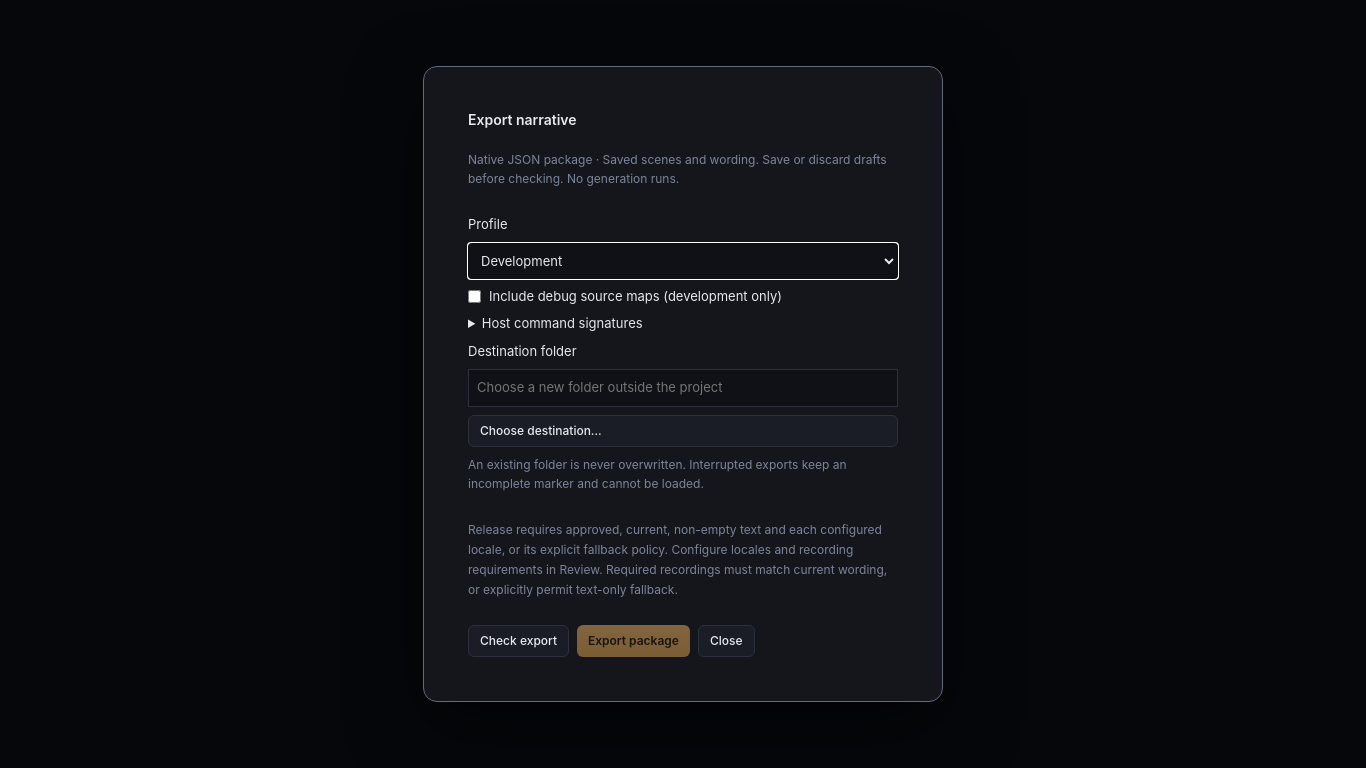
it: Narrative export › shows release blockers and invalidates validation on option changes
Click the button "Check export" at (518, 641), box [468,625,569,657]
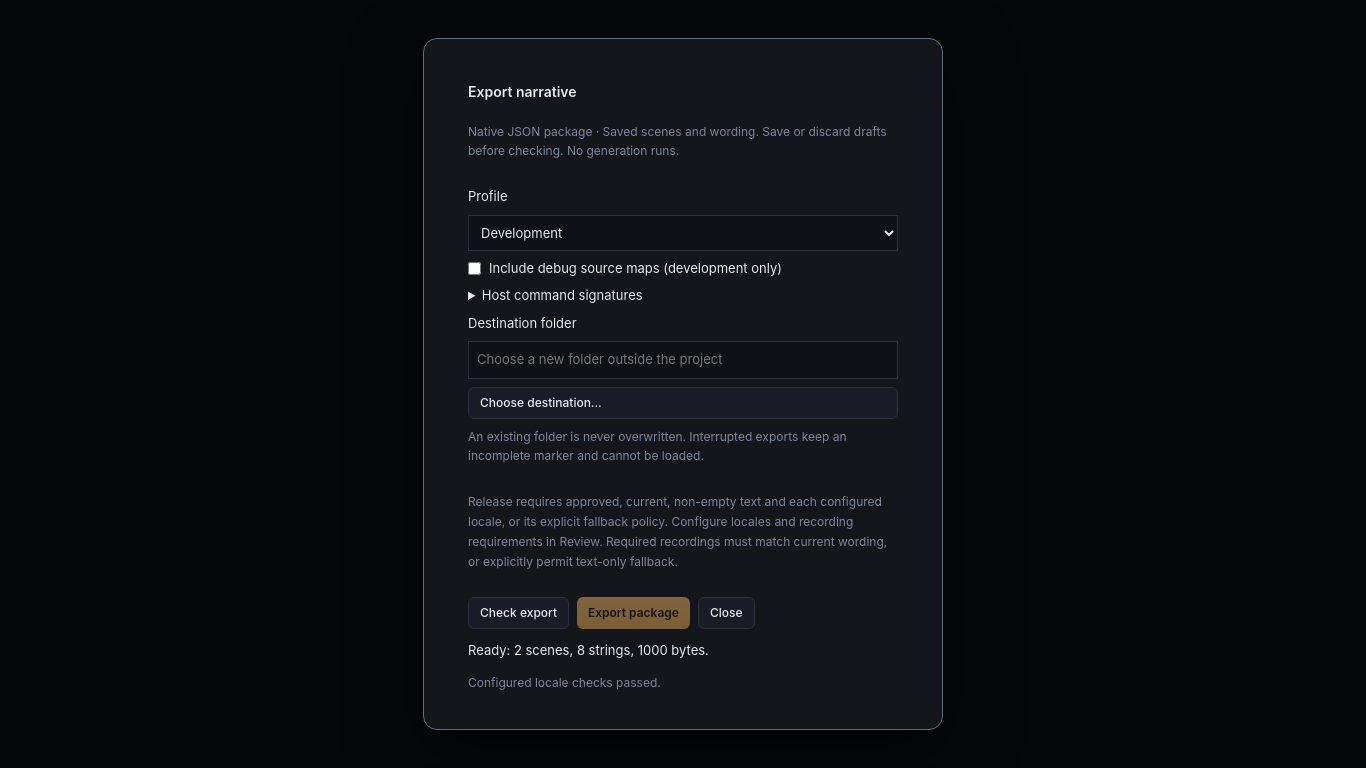
Expected: the text "Ready: 2 scenes, 8 strings, 1000 bytes." is shown, [468,642,709,658]
Select "Release" in the dropdown labelled "Profile" at (683, 233), box [468,215,898,251]
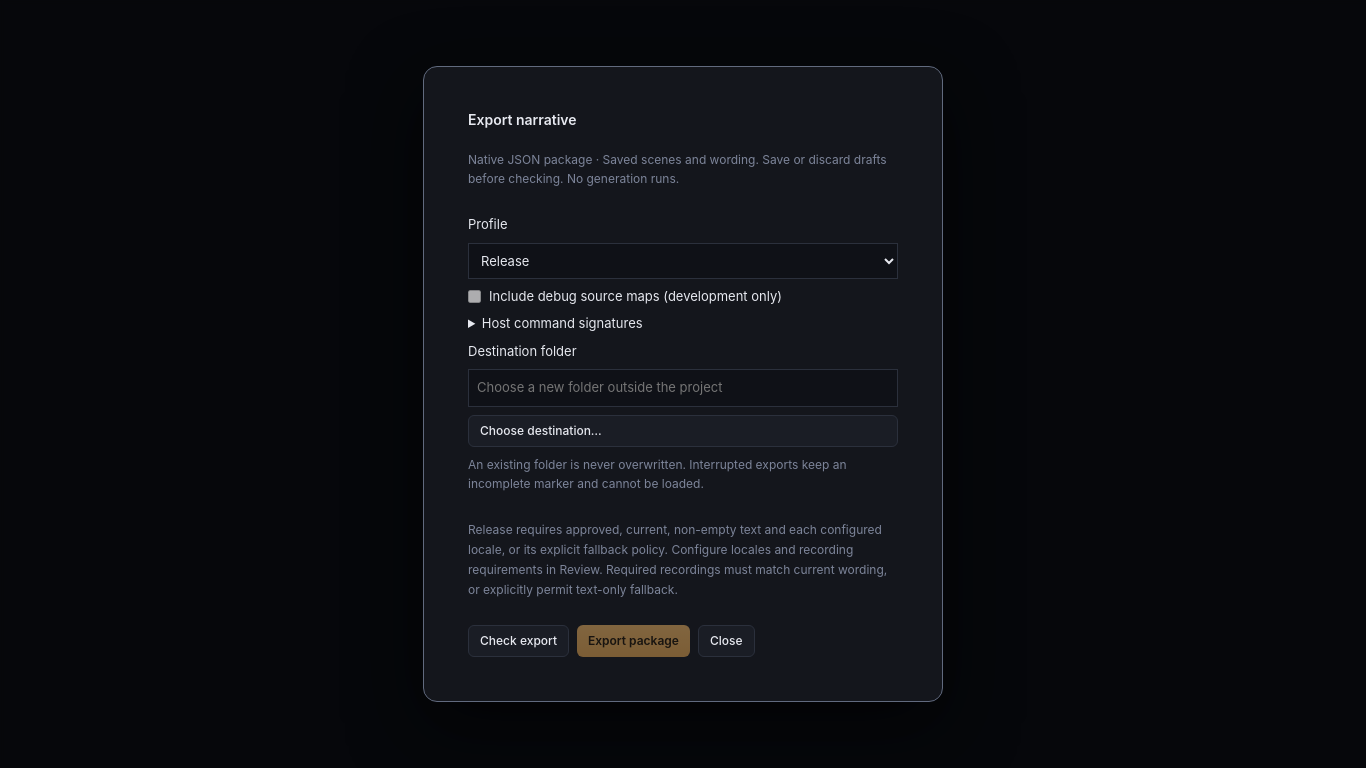
Expected: the text "Ready:" is gone
Expected: the checkbox is disabled, [468,290,481,303]
Click the button "Check export" at (518, 641), box [468,625,569,657]
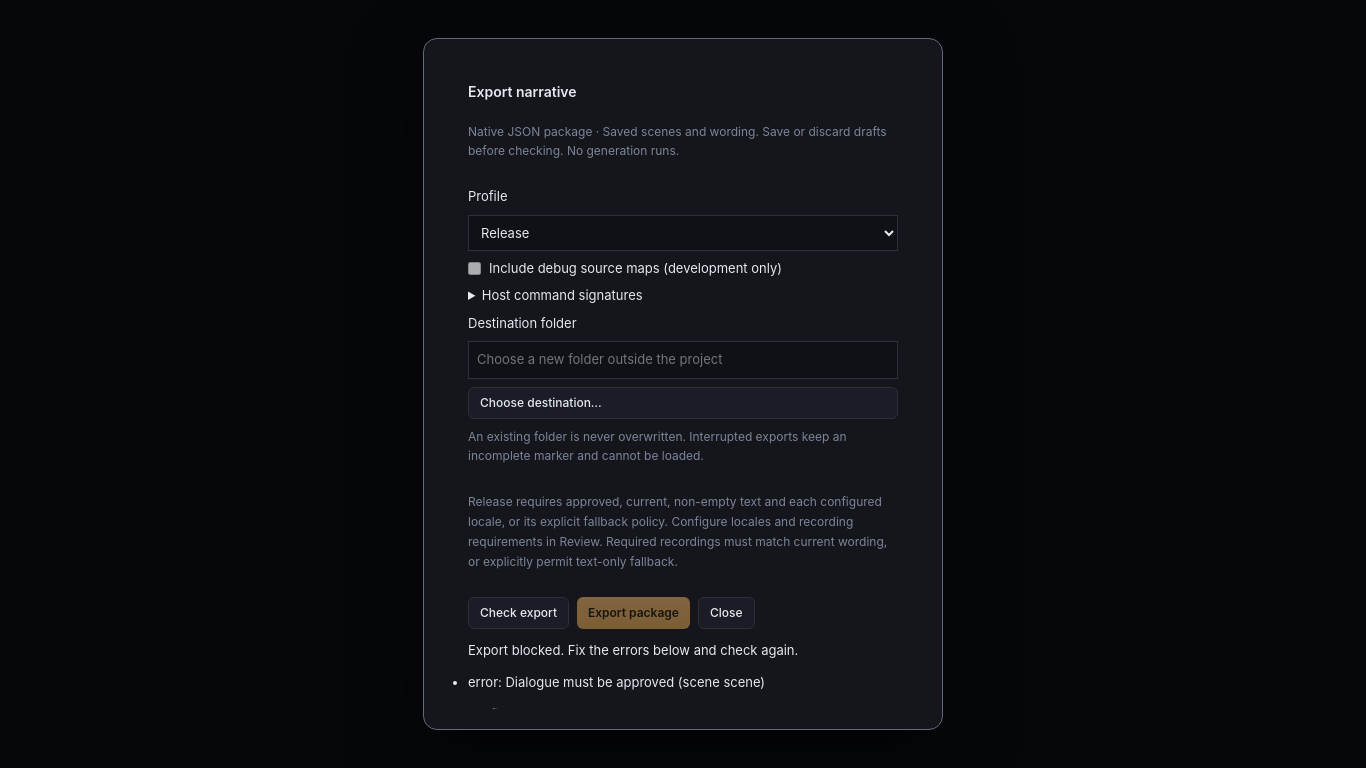
Expected: the button "Export package" is disabled, [577,598,690,630]
Expected: the text "Export blocked. Fix the errors below and check again." is shown, [468,642,798,658]
Expected: the list named "Export diagnostics" shows "Dialogue must be approved", [506,674,674,690]
